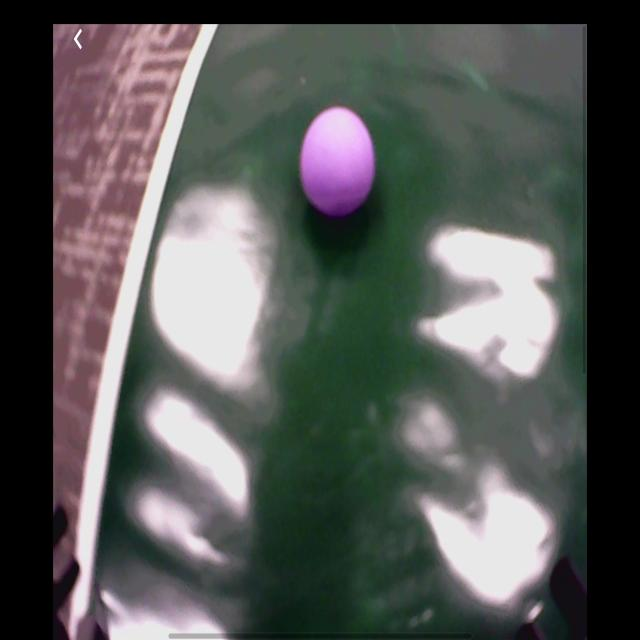ball: (303, 107, 377, 220)
